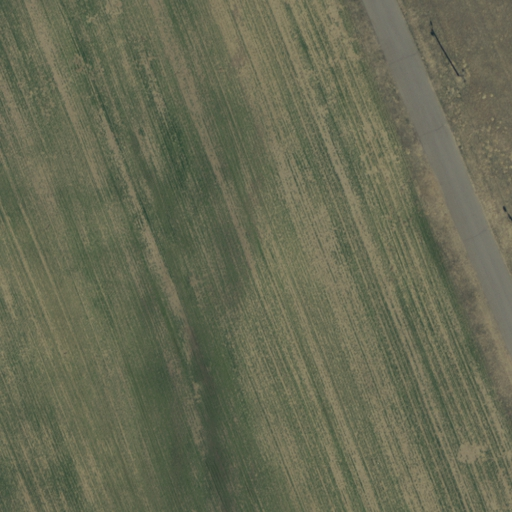DT: (450, 64, 474, 88)
